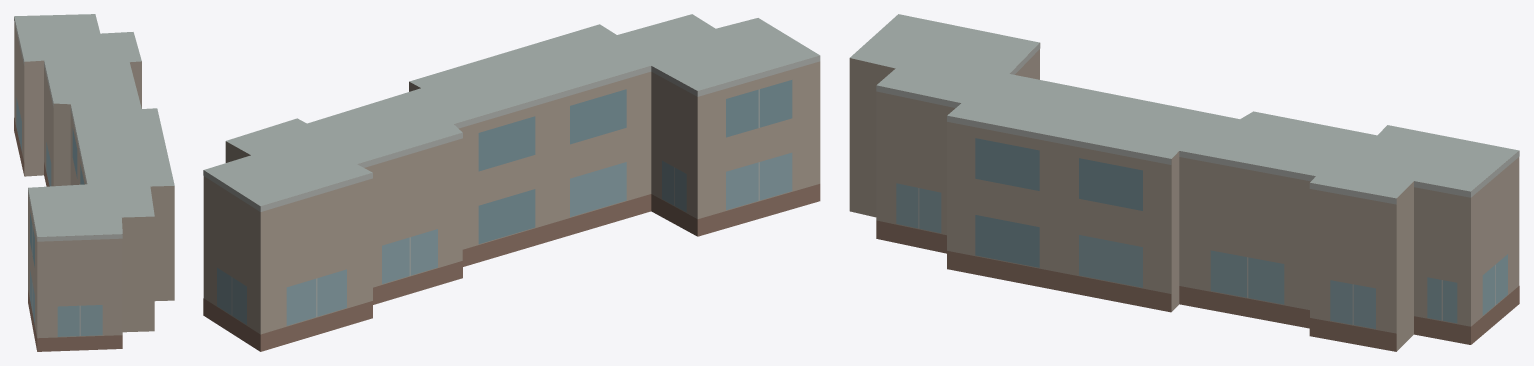
The model's file is survey-upis-32536973.glb.
3 views of the same model, side by side, from view 1: azimuth 30°, elevation 25°; view 2: azimuth 150°, elevation 25°; view 3: azimuth 270°, elevation 25° (orthographic). The views are drawn at different scales.
Parts seen in each view (by area): view 1: survey-upis-32536973.tmp; view 2: survey-upis-32536973.tmp; view 3: survey-upis-32536973.tmp.
Part boxes in pixels (box(x1,y1,x2,y2)): survey-upis-32536973.tmp: box(14, 14, 174, 351); survey-upis-32536973.tmp: box(203, 14, 820, 351); survey-upis-32536973.tmp: box(849, 14, 1519, 351).
Size of the model in its own units: 15.73 by 6.1 by 24.14.
